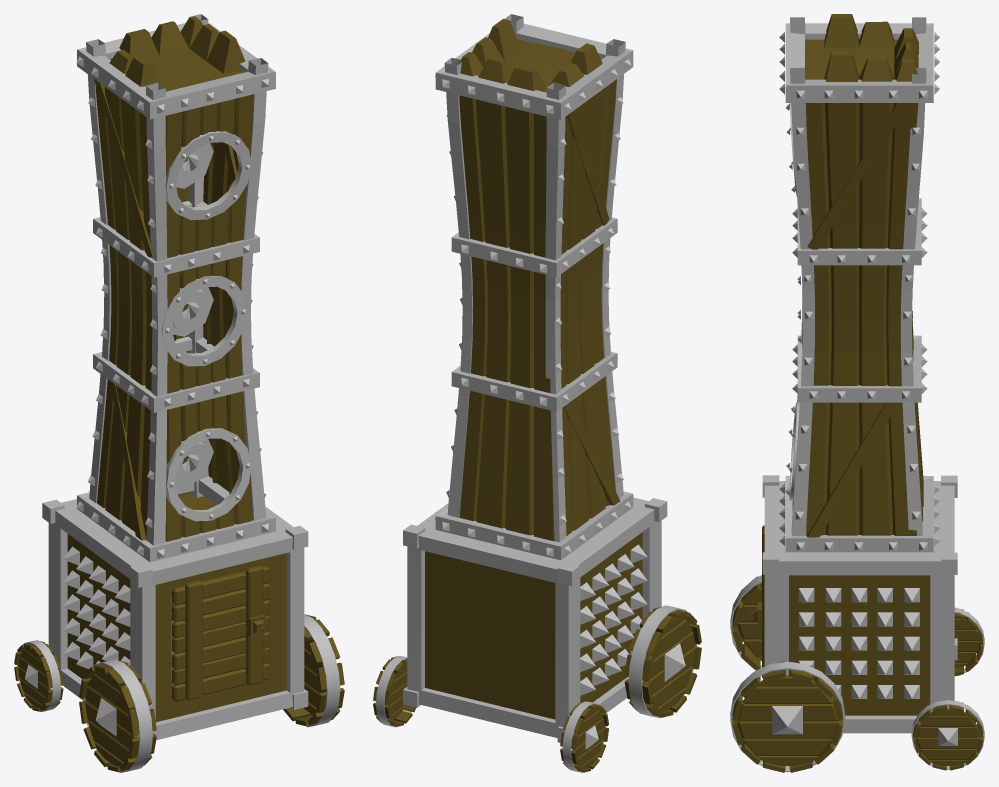
File: Tower_Mesh.fbx
The picture shows the model from 3 angles, left to right: view 1: azimuth 30°, elevation 25°; view 2: azimuth 150°, elevation 25°; view 3: azimuth 270°, elevation 25°; orthographic projection. The views are drawn at different scales.
Visible parts, largest first — view 1: Metal_Mesh, Door_Mesh; view 2: Metal_Mesh; view 3: Metal_Mesh, Door_Mesh.
Boxes of the visible parts, box(x1,y1,x2,y2) form: Metal_Mesh: box(14, 14, 344, 772); Door_Mesh: box(172, 565, 269, 701); Metal_Mesh: box(373, 14, 701, 772); Metal_Mesh: box(730, 14, 984, 772); Door_Mesh: box(748, 525, 764, 677).
Size of the model in its own units: 300 by 838 by 280.
